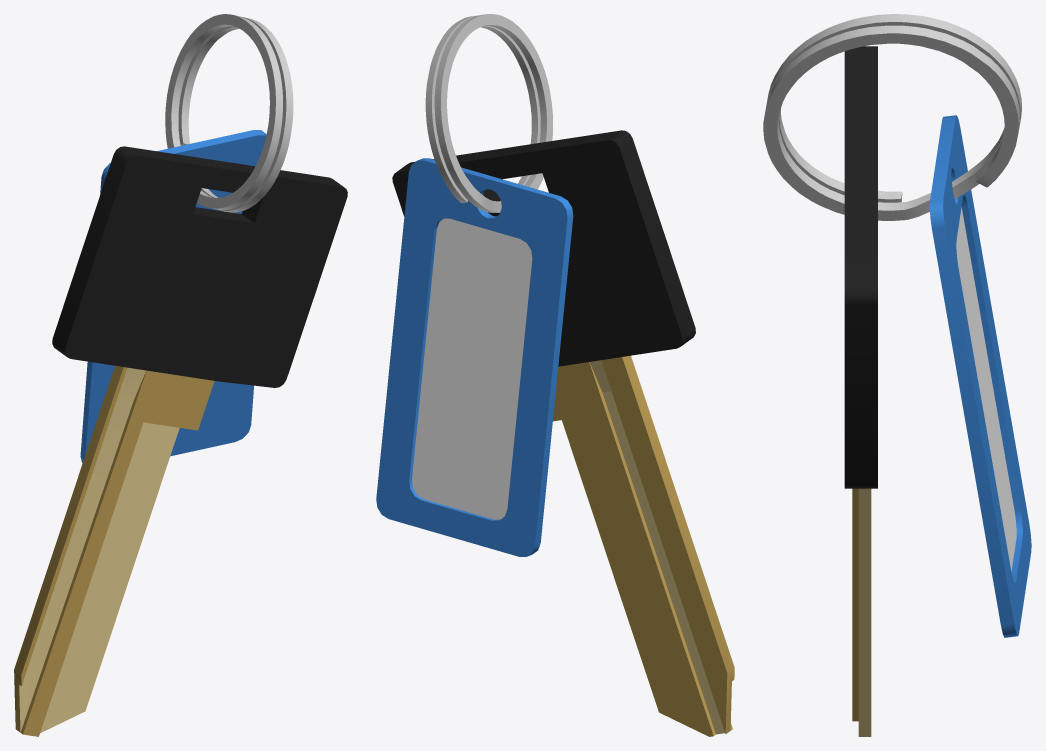
Rendered from Key5_with_tag.fbx.
3 views of the same model, side by side, from view 1: azimuth 30°, elevation 25°; view 2: azimuth 150°, elevation 25°; view 3: azimuth 270°, elevation 25° (orthographic). The views are drawn at different scales.
Parts seen in each view (by area): view 1: Key5_with_tag.001; view 2: Key5_with_tag.001; view 3: Key5_with_tag.001.
Part boxes in pixels (x1,y1,x2,y2): Key5_with_tag.001: (14,14,347,736); Key5_with_tag.001: (376,14,734,736); Key5_with_tag.001: (763,14,1031,736).
Bounding box in the file's own units: 0.602 × 1.15 × 0.3303.
